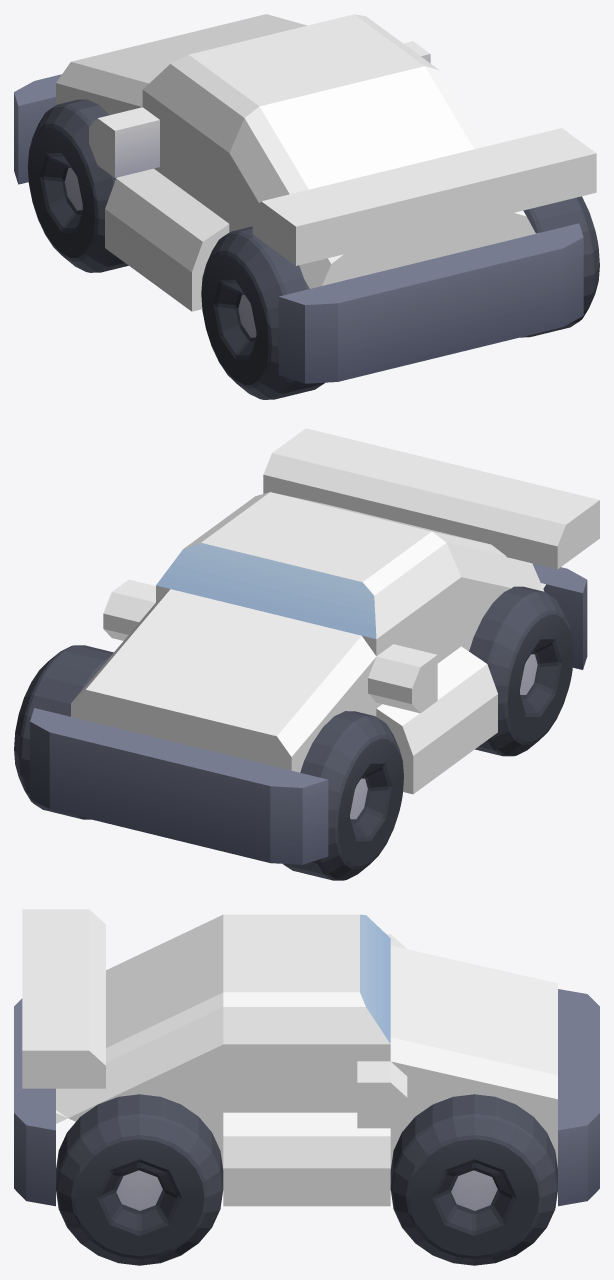
The model's file is KitRacerLow.fbx.
3 views of the same model, one above another, from view 1: azimuth 30°, elevation 25°; view 2: azimuth 150°, elevation 25°; view 3: azimuth 270°, elevation 25° (orthographic). The views are drawn at different scales.
Parts seen in each view (by area): view 1: KitRacerLow_Body, Wheel_RL, Wheel_FL, Wheel_RR; view 2: KitRacerLow_Body, Wheel_RL, Wheel_FL, Wheel_FR; view 3: KitRacerLow_Body, Wheel_FR, Wheel_RR.
Boxes of the visible parts, box(x1,y1,x2,y2) form: KitRacerLow_Body: box(14, 14, 596, 383); Wheel_RL: box(201, 226, 324, 399); Wheel_FL: box(27, 99, 128, 272); Wheel_RR: box(520, 196, 599, 337); KitRacerLow_Body: box(30, 428, 599, 864); Wheel_RL: box(469, 586, 573, 756); Wheel_FL: box(283, 711, 403, 880); Wheel_FR: box(14, 645, 113, 819); KitRacerLow_Body: box(14, 909, 599, 1206); Wheel_FR: box(390, 1094, 557, 1265); Wheel_RR: box(56, 1094, 223, 1265).
Size of the model in its own units: 1.93 by 1.33 by 3.
